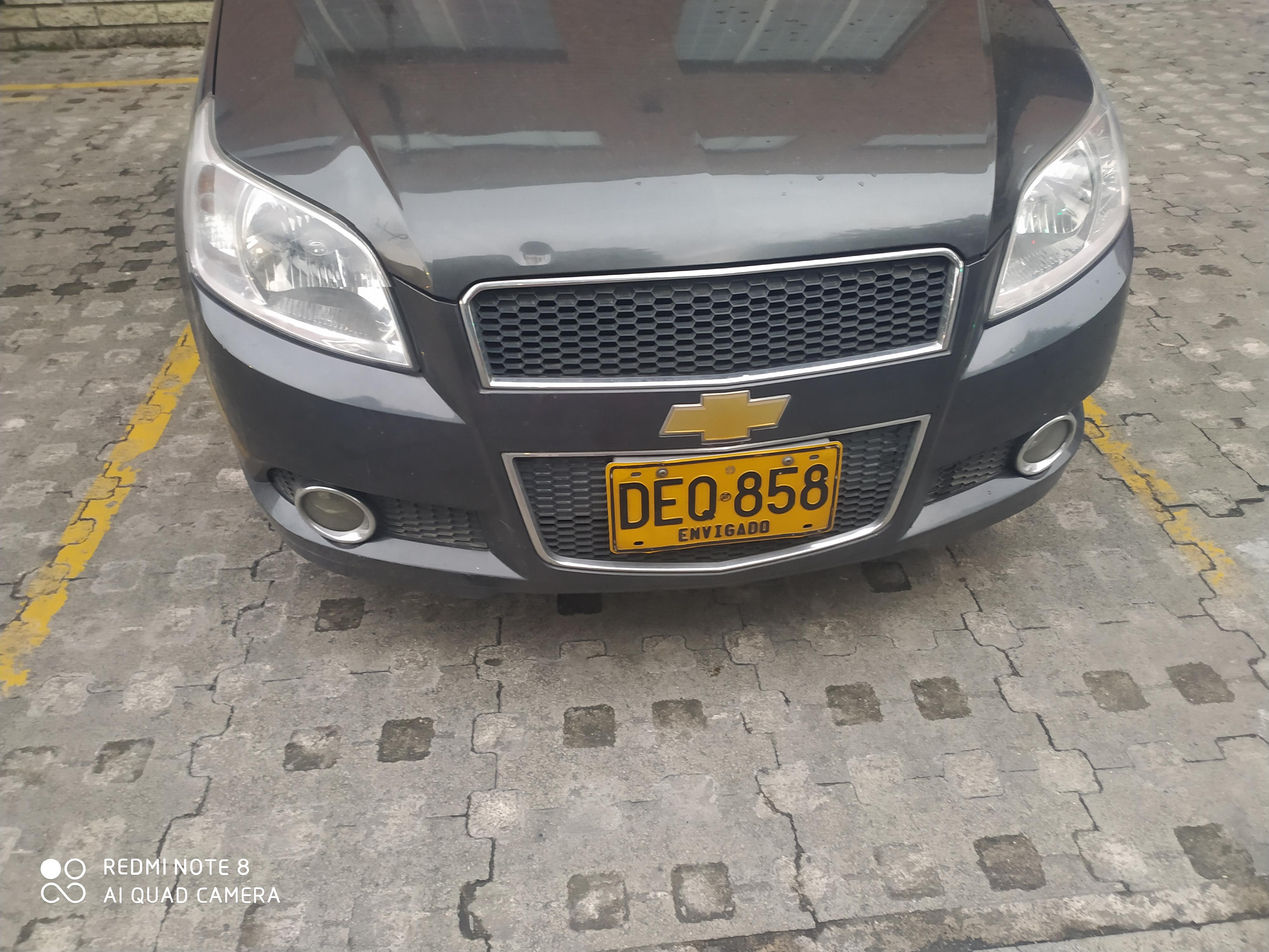placa: (597, 439, 845, 560)
